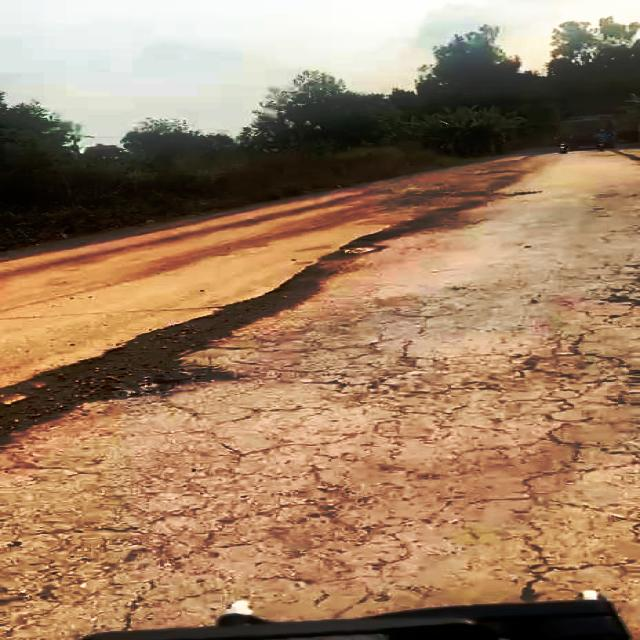pothole: (0, 309, 266, 434)
